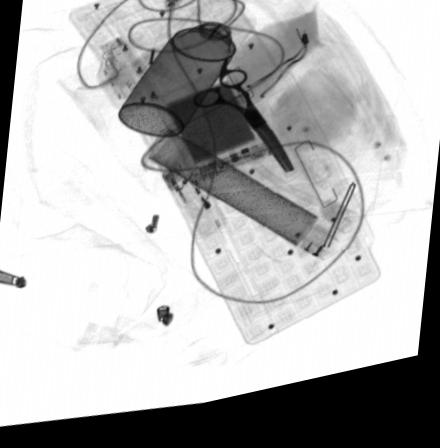Lighter: (159, 166, 226, 250)
Powerbank: (149, 72, 274, 192)
Scissors: (191, 66, 294, 183)
Sprayer: (116, 7, 257, 144)
